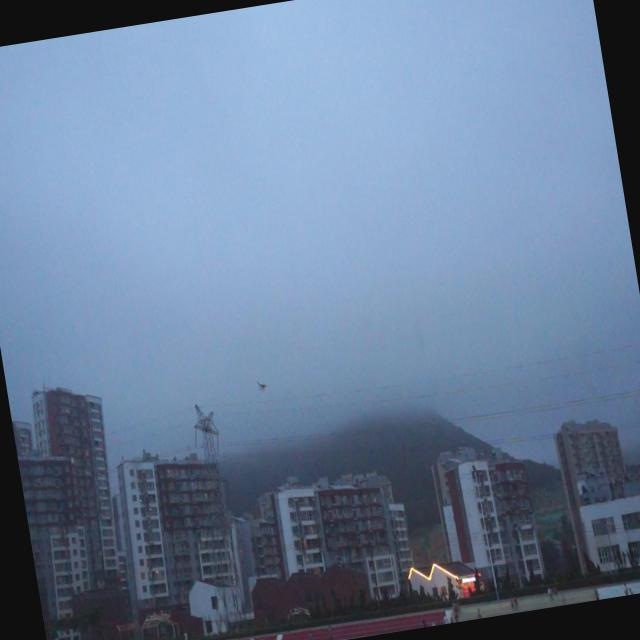drone: (254, 376, 272, 396)
